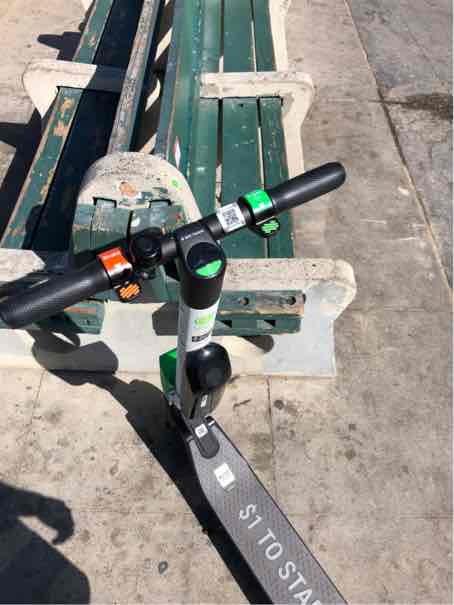scooter: (15, 189, 416, 605)
